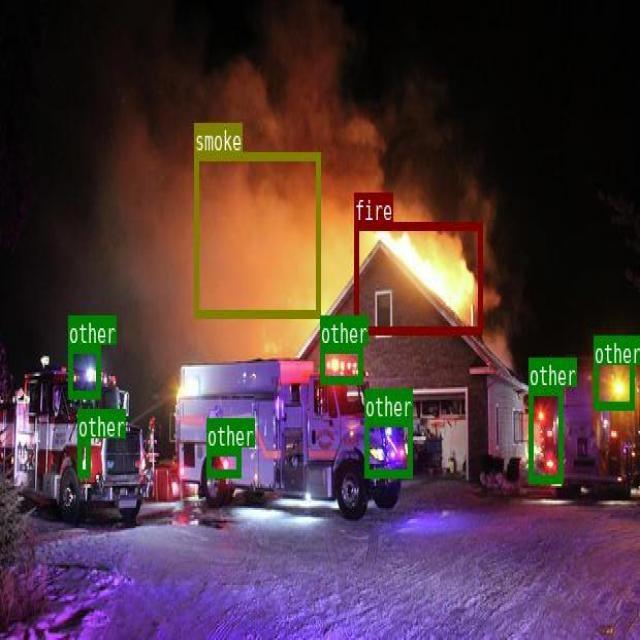fire: (354, 221, 482, 333)
smoke: (193, 152, 320, 317)
